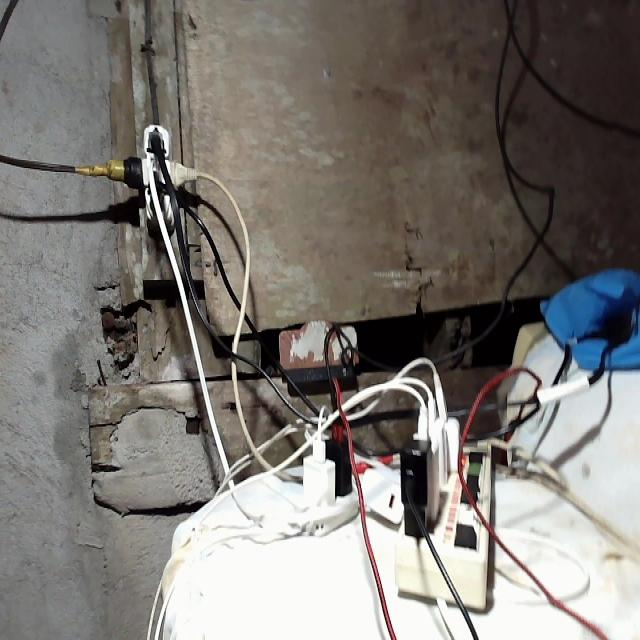-: (111, 120, 199, 235)
